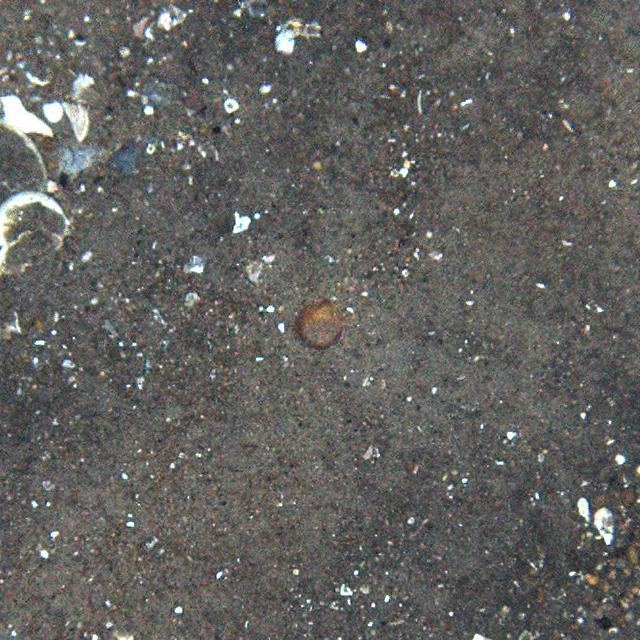scallop: (297, 297, 344, 348)
